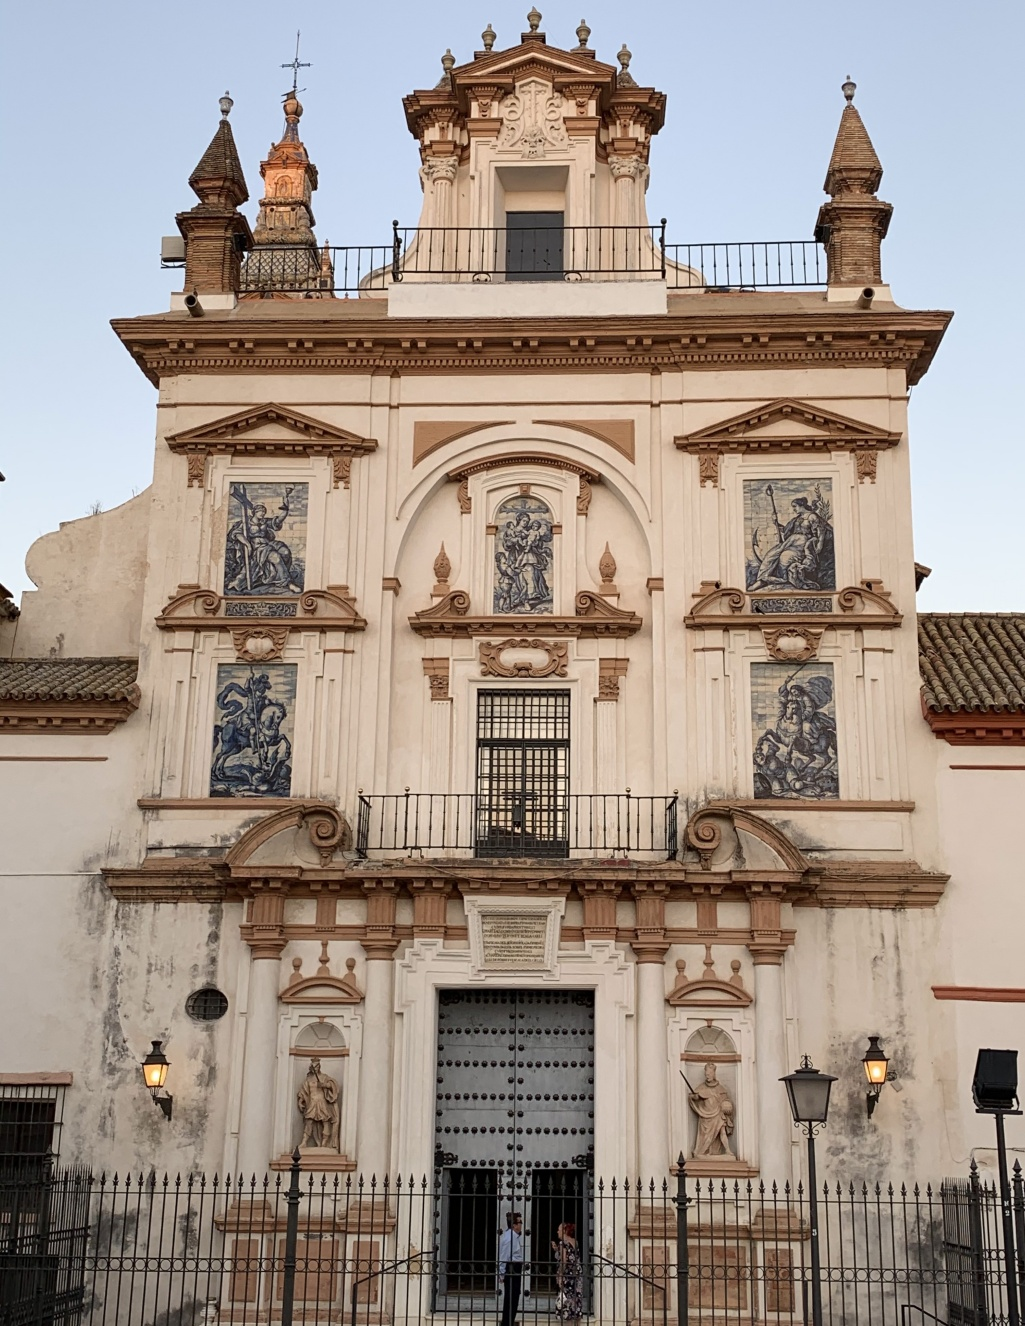fronton: (674, 396, 893, 455), (163, 403, 371, 459)
fronton-curvo: (664, 986, 754, 1017), (280, 982, 361, 1012)
fronton-partido: (217, 806, 815, 900), (153, 588, 367, 639), (680, 587, 899, 637), (404, 591, 636, 638), (446, 40, 608, 88)
vano-adintelado: (384, 967, 631, 1317), (454, 668, 586, 861), (482, 149, 580, 281)
